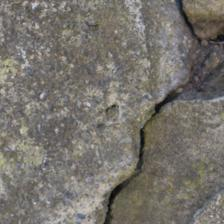Crack: (104, 83, 191, 219), (176, 2, 222, 49)
